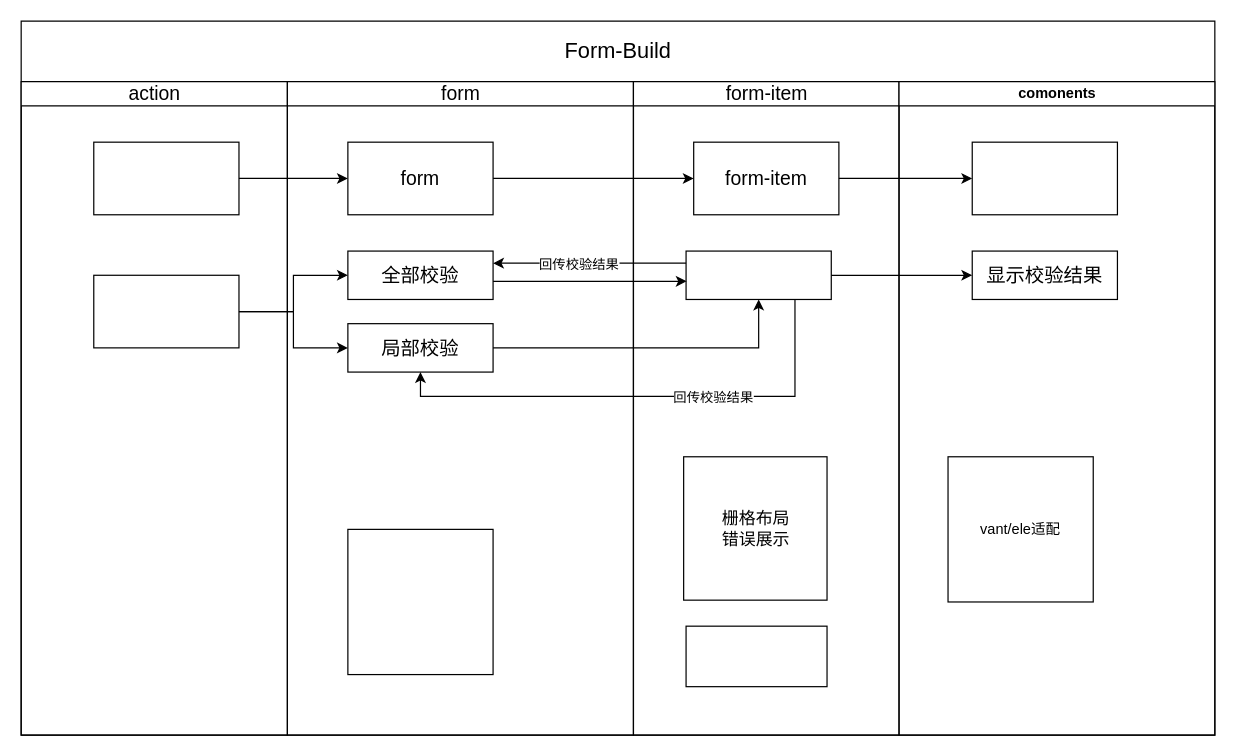
Some shapes in this 1237 by 756 pixel diagram are drawn without their labels. Here are the shapes that lost their labels. From the top down, the box of each, then its label:
(93, 141, 239, 215): 层级关系
(971, 141, 1117, 215): input select ...
(685, 250, 831, 299): 字段校验
(93, 274, 239, 348): 表单校验
(347, 528, 493, 675): 表单校验 提交 初始化（创建model和rule）
(685, 625, 827, 687): «interface» FormItem
